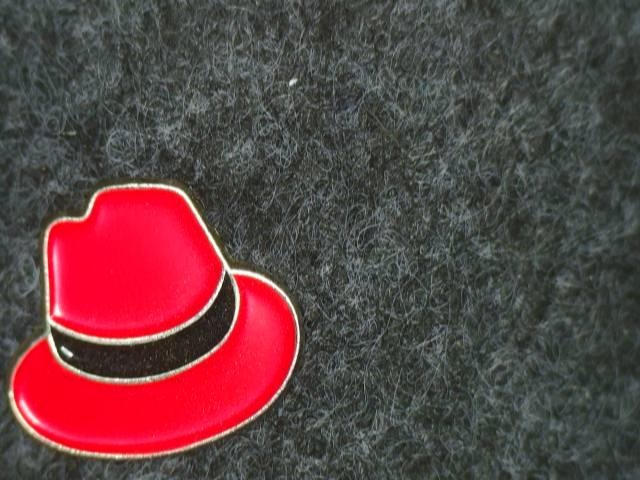Red-Hat: (7, 179, 335, 470)
